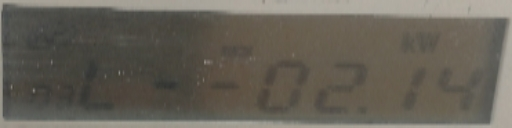0: (260, 57, 313, 121)
1: (395, 59, 430, 116)
2: (315, 59, 367, 113)
4: (433, 63, 490, 121)
d: (356, 100, 385, 117)
